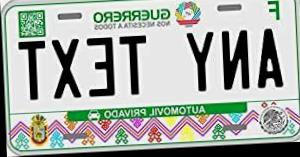License_Plate: (7, 0, 300, 149)
